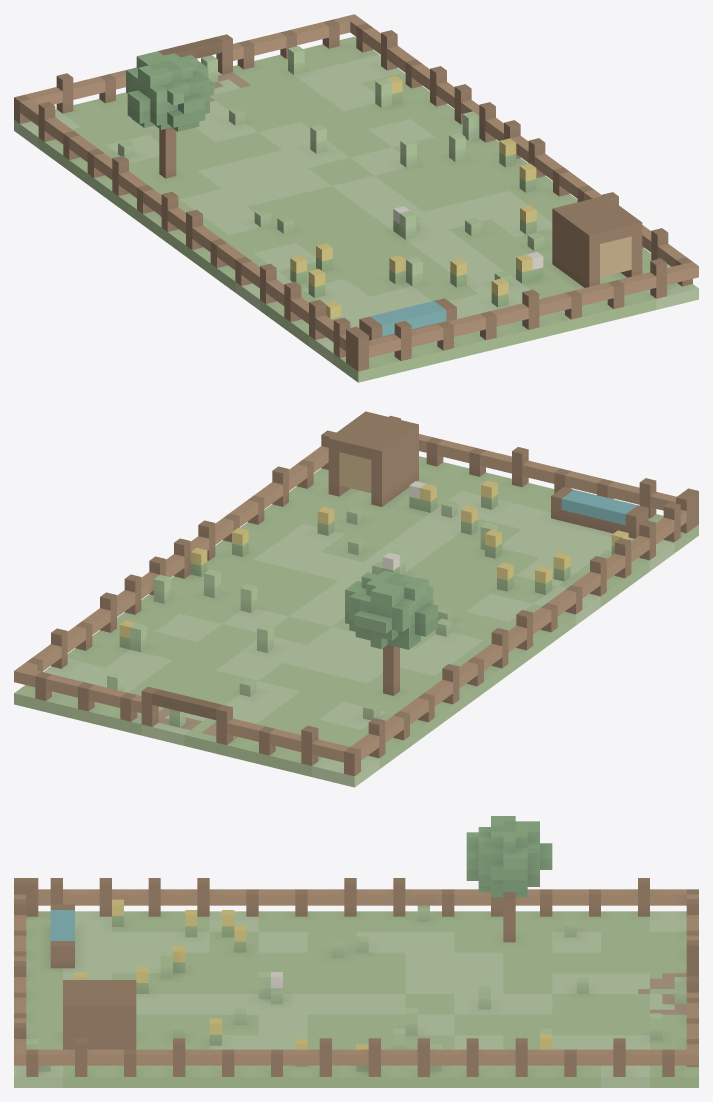
The model's file is cattle_pasture.glb.
3 renders of one model, top to bottom at view 1: azimuth 30°, elevation 25°; view 2: azimuth 150°, elevation 25°; view 3: azimuth 270°, elevation 25°, orthographic.
Parts seen in each view (by area): view 1: cattle_pasture; view 2: cattle_pasture; view 3: cattle_pasture.
Boxes of the visible parts, bbox=[...] form: cattle_pasture: bbox=[14, 14, 698, 382]; cattle_pasture: bbox=[14, 411, 698, 787]; cattle_pasture: bbox=[14, 816, 698, 1087].
Size of the model in its own units: 4 by 1.38 by 7.
